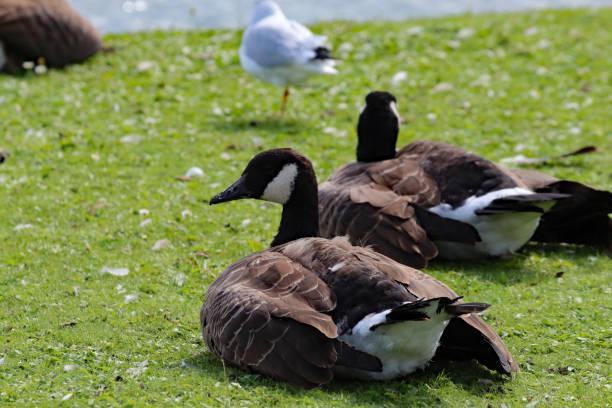Canadian-Goose: (198, 148, 517, 388), (318, 90, 612, 256)
